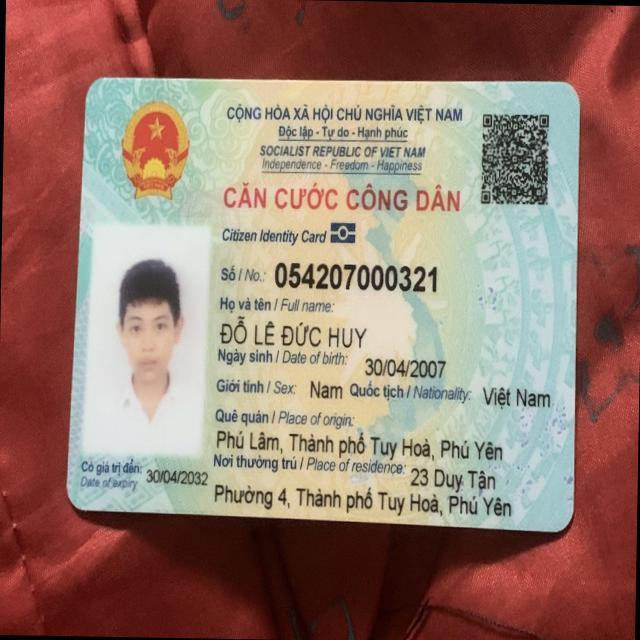current_place: (210, 478, 516, 519), (409, 463, 496, 492)
dob: (361, 348, 447, 380)
expire_date: (145, 459, 210, 489)
gender: (307, 379, 345, 398)
id: (271, 252, 439, 295)
name: (216, 312, 369, 352)
nationality: (483, 376, 554, 415)
origin_place: (213, 423, 504, 461)
